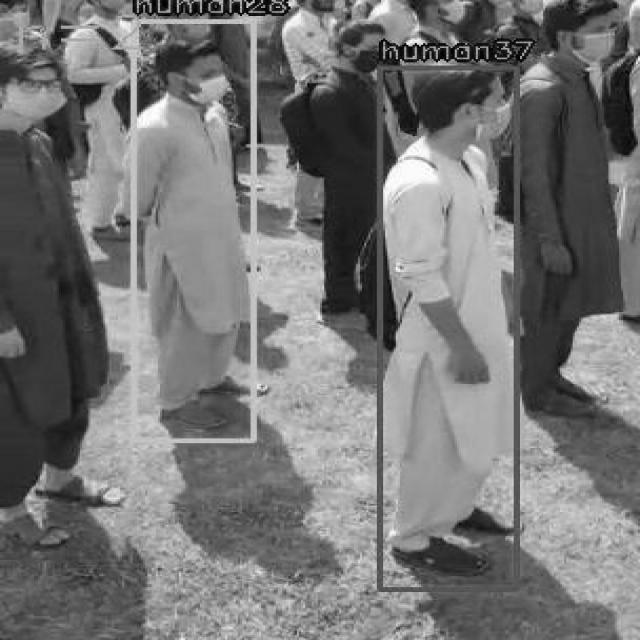person: (377, 66, 516, 588), (130, 19, 252, 440)
